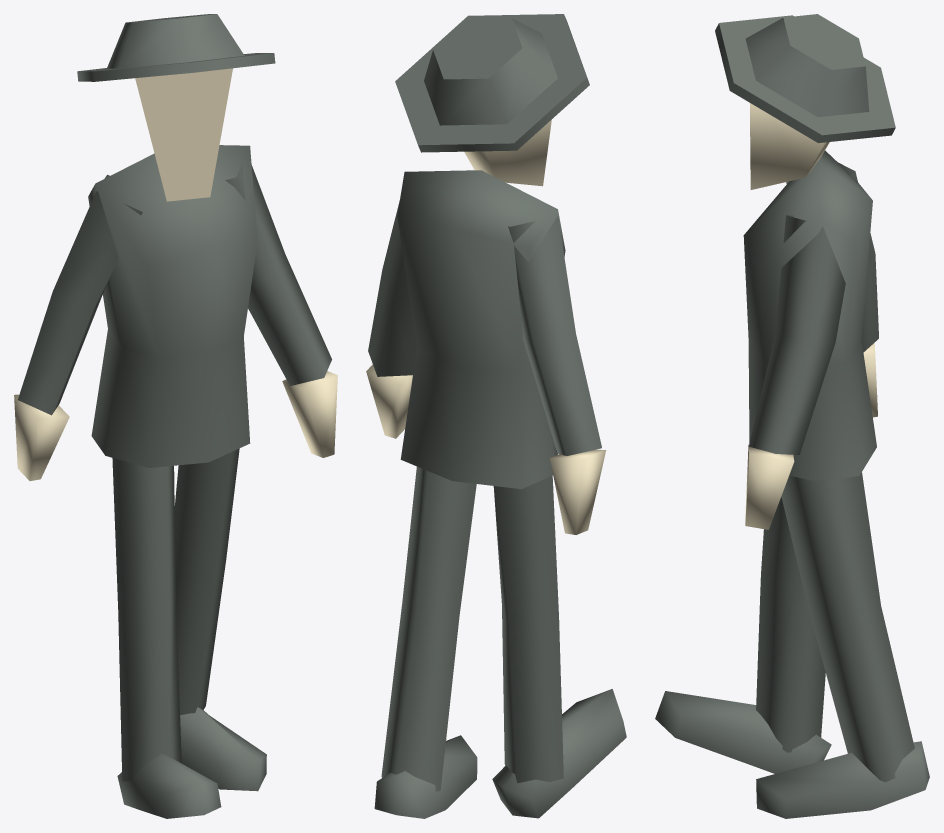
The model's file is mesh_NormalPerson_c.fbx.
The picture shows the model from 3 angles, left to right: view 1: azimuth 30°, elevation 25°; view 2: azimuth 150°, elevation 25°; view 3: azimuth 270°, elevation 25°; orthographic projection. The views are drawn at different scales.
Visible parts, largest first — view 1: mesh_OswiecimPassengerMan.004; view 2: mesh_OswiecimPassengerMan.004; view 3: mesh_OswiecimPassengerMan.004.
Part boxes in pixels (x1,y1,x2,y2): mesh_OswiecimPassengerMan.004: (14, 14, 337, 818); mesh_OswiecimPassengerMan.004: (366, 14, 626, 818); mesh_OswiecimPassengerMan.004: (655, 14, 929, 818).
Bounding box in the file's own units: 36.83 × 101 × 32.64.
